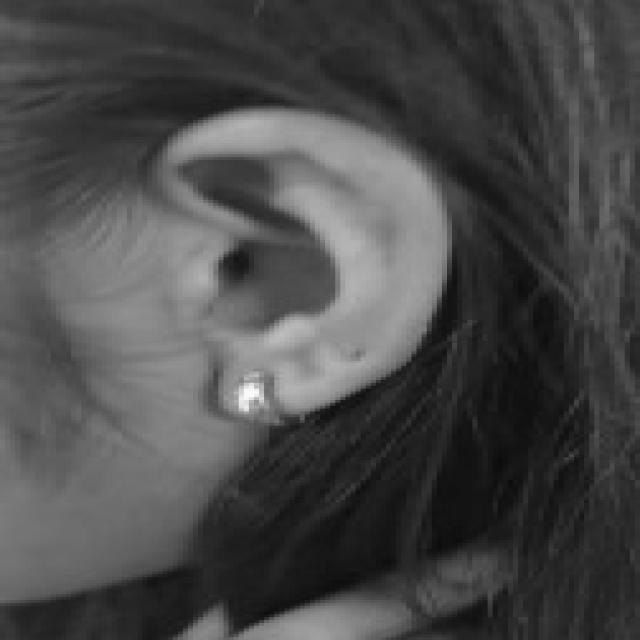ear: (152, 106, 442, 411)
